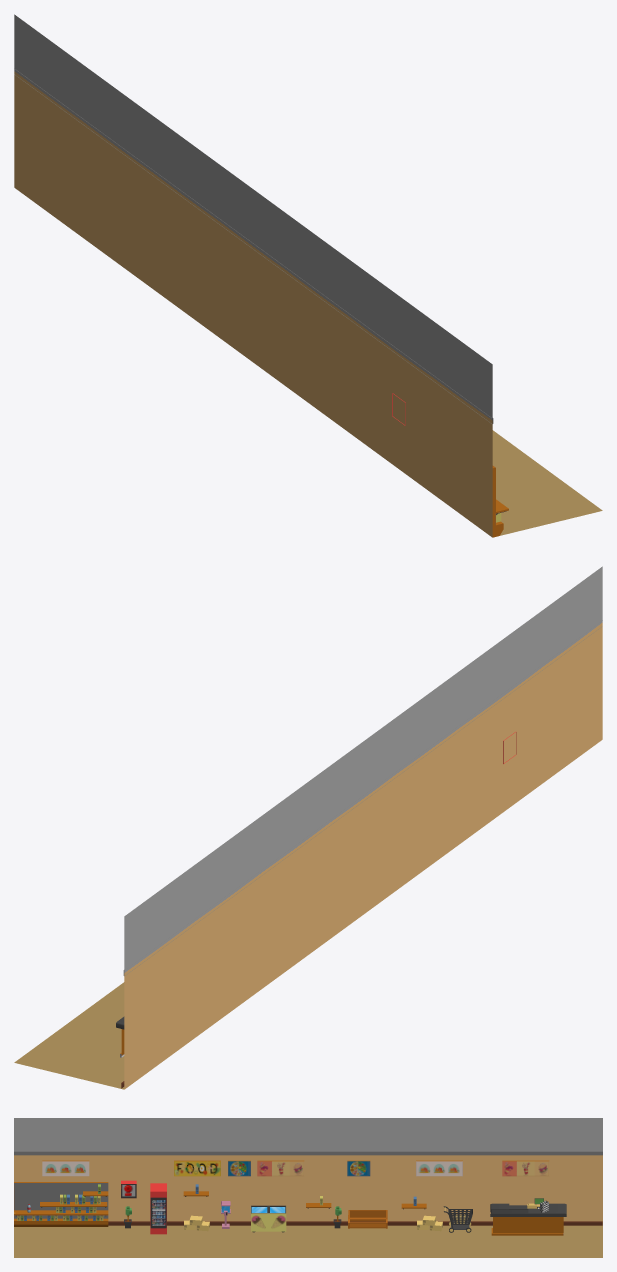
File: Shop_scene.fbx
3 views of the same model, one above another, from view 1: azimuth 30°, elevation 25°; view 2: azimuth 150°, elevation 25°; view 3: azimuth 270°, elevation 25° (orthographic). The views are drawn at different scales.
Visible parts, largest first — view 1: Wall, Floor, Plinth_upper; view 2: Wall, Floor, Plinth_upper; view 3: Wall, Floor, Plinth_upper, Shelves.010, Table_wall.001, Plinth, Ice_cream.002, Table.001, Box_3.006, Paint_fast_food, Paint_white.002, Paint_fast_food.001 (+14 smaller).
Part boxes in pixels (x1,y1,x2,y2): Wall: (14, 14, 492, 537); Floor: (492, 430, 602, 535); Plinth_upper: (14, 68, 493, 424); Wall: (124, 566, 602, 1089); Floor: (14, 982, 124, 1089); Plinth_upper: (123, 620, 602, 976); Wall: (14, 1118, 602, 1224); Floor: (14, 1225, 602, 1257); Plinth_upper: (14, 1151, 602, 1155); Shelves.010: (14, 1182, 108, 1226); Table_wall.001: (491, 1217, 563, 1235); Plinth: (108, 1221, 602, 1225); Ice_cream.002: (251, 1205, 286, 1232); Table.001: (490, 1203, 566, 1216); Box_3.006: (17, 1194, 103, 1220); Paint_fast_food: (257, 1160, 304, 1176); Paint_white.002: (42, 1160, 89, 1176); Paint_fast_food.001: (502, 1160, 549, 1176).
Size of the model in its own units: 201 by 300 by 1500.
1 material, 1 textured.
